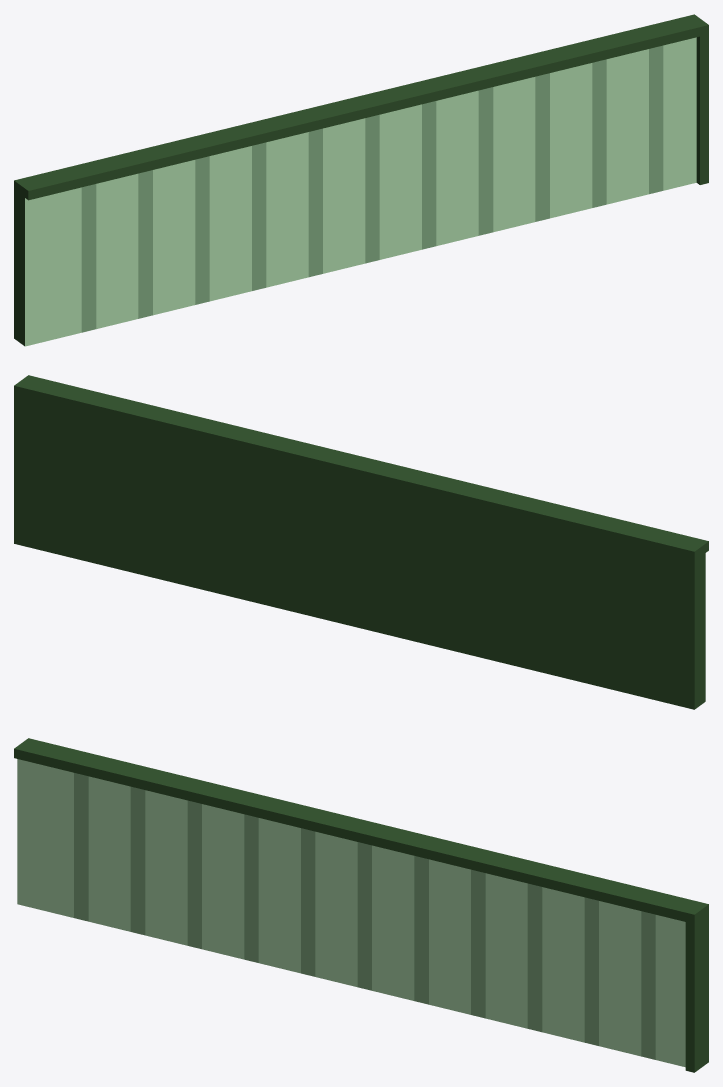
Rendered from Right_Wall_House.fbx.
3 views of the same model, one above another, from view 1: azimuth 30°, elevation 25°; view 2: azimuth 150°, elevation 25°; view 3: azimuth 330°, elevation 25° (orthographic).
Parts seen in each view (by area): view 1: Right_Wall; view 2: Right_Wall; view 3: Right_Wall.
Boxes of the visible parts, x1=… form: Right_Wall: x1=14, y1=14, x2=708, y2=346; Right_Wall: x1=14, y1=375, x2=708, y2=709; Right_Wall: x1=14, y1=738, x2=708, y2=1072.
Size of the model in its own units: 9.01 by 2 by 0.3315.
